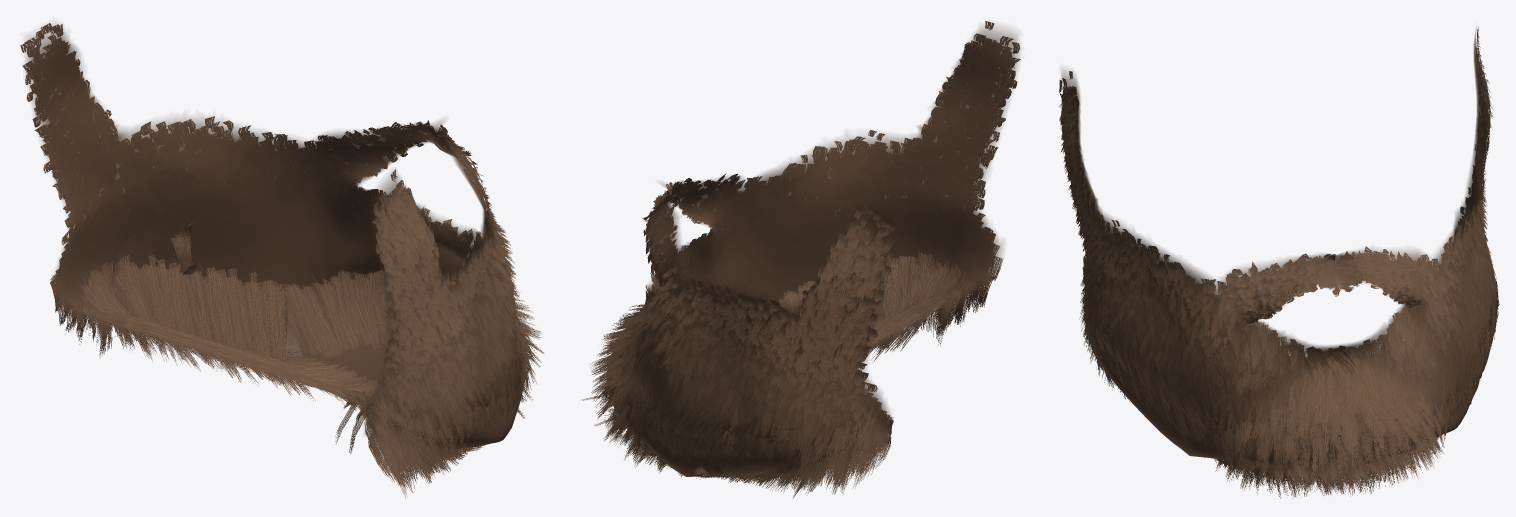
Rendered from beard-m1-full.glb.
3 views of the same model, side by side, from view 1: azimuth 30°, elevation 25°; view 2: azimuth 150°, elevation 25°; view 3: azimuth 270°, elevation 25° (orthographic). The views are drawn at different scales.
Parts seen in each view (by area): view 1: Beard_m1_full_cards, Beard_m1_full_root; view 2: Beard_m1_full_cards, Beard_m1_full_root; view 3: Beard_m1_full_cards, Beard_m1_full_root.
Part boxes in pixels (bbox=[...]): Beard_m1_full_cards: bbox=[20, 23, 543, 498]; Beard_m1_full_root: bbox=[25, 23, 525, 448]; Beard_m1_full_cards: bbox=[581, 21, 1020, 498]; Beard_m1_full_root: bbox=[610, 24, 1019, 476]; Beard_m1_full_cards: bbox=[1058, 27, 1499, 498]; Beard_m1_full_root: bbox=[1061, 28, 1496, 467].
Bounding box in the file's own units: 0.1493 × 0.1461 × 0.1598.
2 materials, 1 textured.
